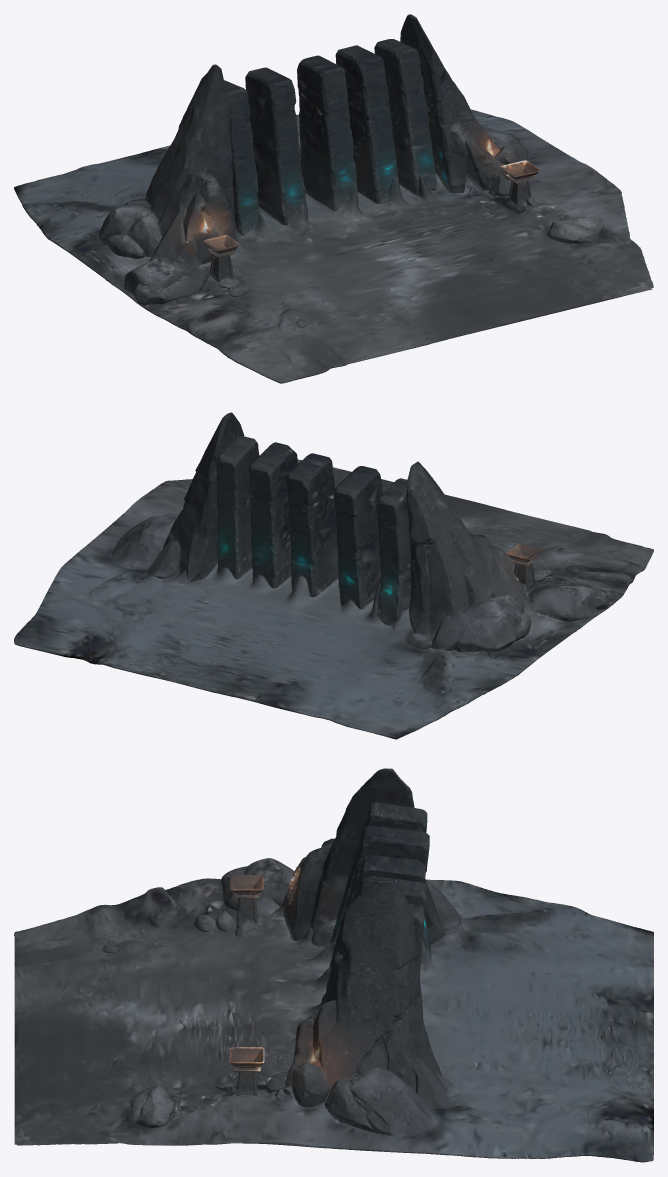
File: Environment(GOW)_draco.glb
The picture shows the model from 3 angles, top to bottom: view 1: azimuth 30°, elevation 25°; view 2: azimuth 150°, elevation 25°; view 3: azimuth 270°, elevation 25°; orthographic projection. The views are drawn at different scales.
Parts seen in each view (by area): view 1: tmpos6h2eo4obj; view 2: tmpos6h2eo4obj; view 3: tmpos6h2eo4obj.
Part boxes in pixels (bbox=[...]): tmpos6h2eo4obj: bbox=[14, 14, 653, 383]; tmpos6h2eo4obj: bbox=[14, 412, 653, 739]; tmpos6h2eo4obj: bbox=[14, 768, 653, 1162].
Size of the model in its own units: 1 by 0.3731 by 0.9853.
